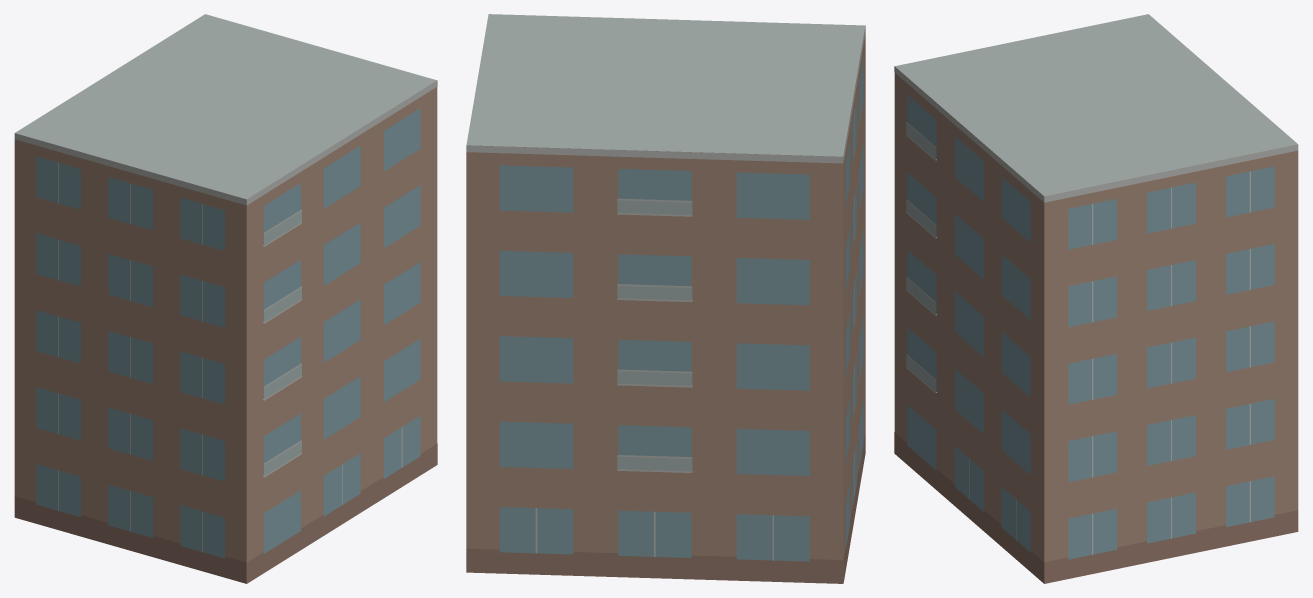
Rendered from residential-74a14c71-52d1-4c36-9127-9eabebe7c297.glb.
3 renders of one model, left to right at view 1: azimuth 30°, elevation 25°; view 2: azimuth 150°, elevation 25°; view 3: azimuth 270°, elevation 25°, orthographic. The views are drawn at different scales.
Parts seen in each view (by area): view 1: residential-74a14c71-52d1-4c36-9127-9eabebe7c297.tmp; view 2: residential-74a14c71-52d1-4c36-9127-9eabebe7c297.tmp; view 3: residential-74a14c71-52d1-4c36-9127-9eabebe7c297.tmp.
Part boxes in pixels (x1,y1,x2,y2): residential-74a14c71-52d1-4c36-9127-9eabebe7c297.tmp: (14,14,437,583); residential-74a14c71-52d1-4c36-9127-9eabebe7c297.tmp: (466,14,865,583); residential-74a14c71-52d1-4c36-9127-9eabebe7c297.tmp: (894,14,1298,583).
Bounding box in the file's own units: 15.41 × 15.25 × 14.42.
